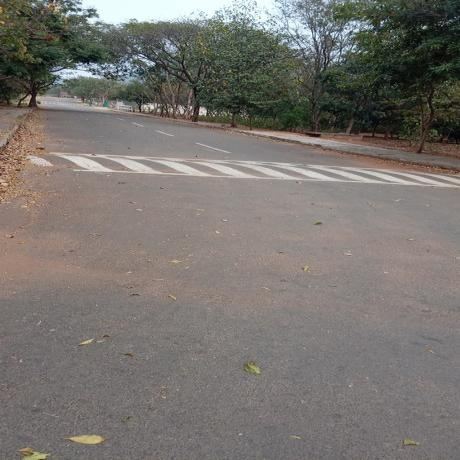Speed Bump: (18, 149, 459, 188)
